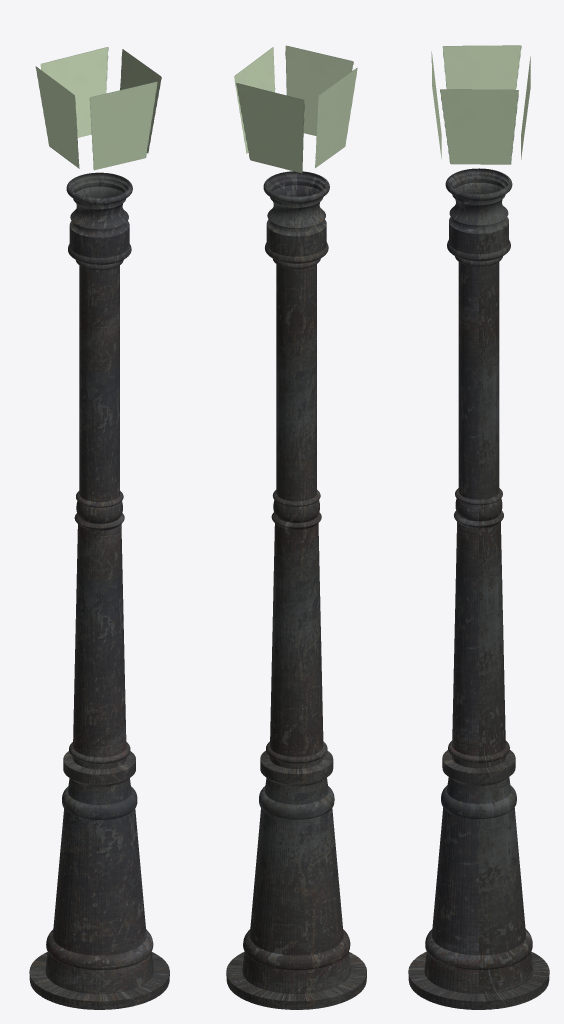
The model's file is Lantaarnpaal.fbx.
The picture shows the model from 3 angles, left to right: view 1: azimuth 30°, elevation 25°; view 2: azimuth 150°, elevation 25°; view 3: azimuth 270°, elevation 25°; orthographic projection.
Visible parts, largest first — view 1: Lathe, latern_1; view 2: Lathe, latern_1; view 3: Lathe, latern_1.
Part boxes in pixels (left/top/right/bottom): Lathe: left=29, top=172, right=169, bottom=1009; latern_1: left=35, top=47, right=161, bottom=170; Lathe: left=226, top=171, right=366, bottom=1009; latern_1: left=234, top=45, right=357, bottom=173; Lathe: left=408, top=168, right=549, bottom=1009; latern_1: left=431, top=45, right=530, bottom=164.
Size of the model in its own units: 122 by 916 by 122.
Materials: 2 (2 with a texture image).
